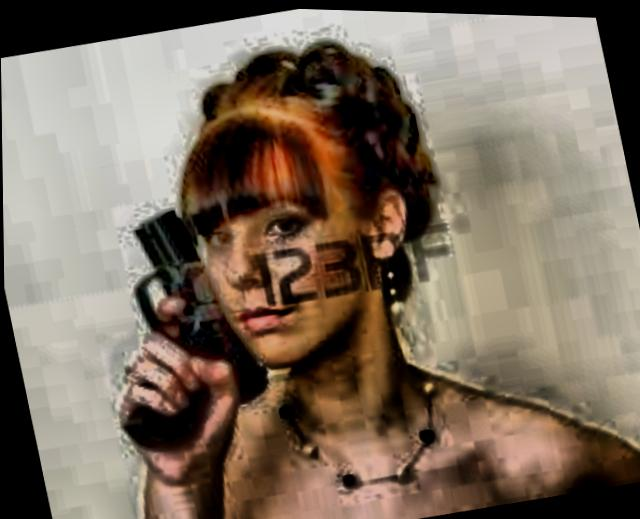pistol: (80, 188, 277, 456)
